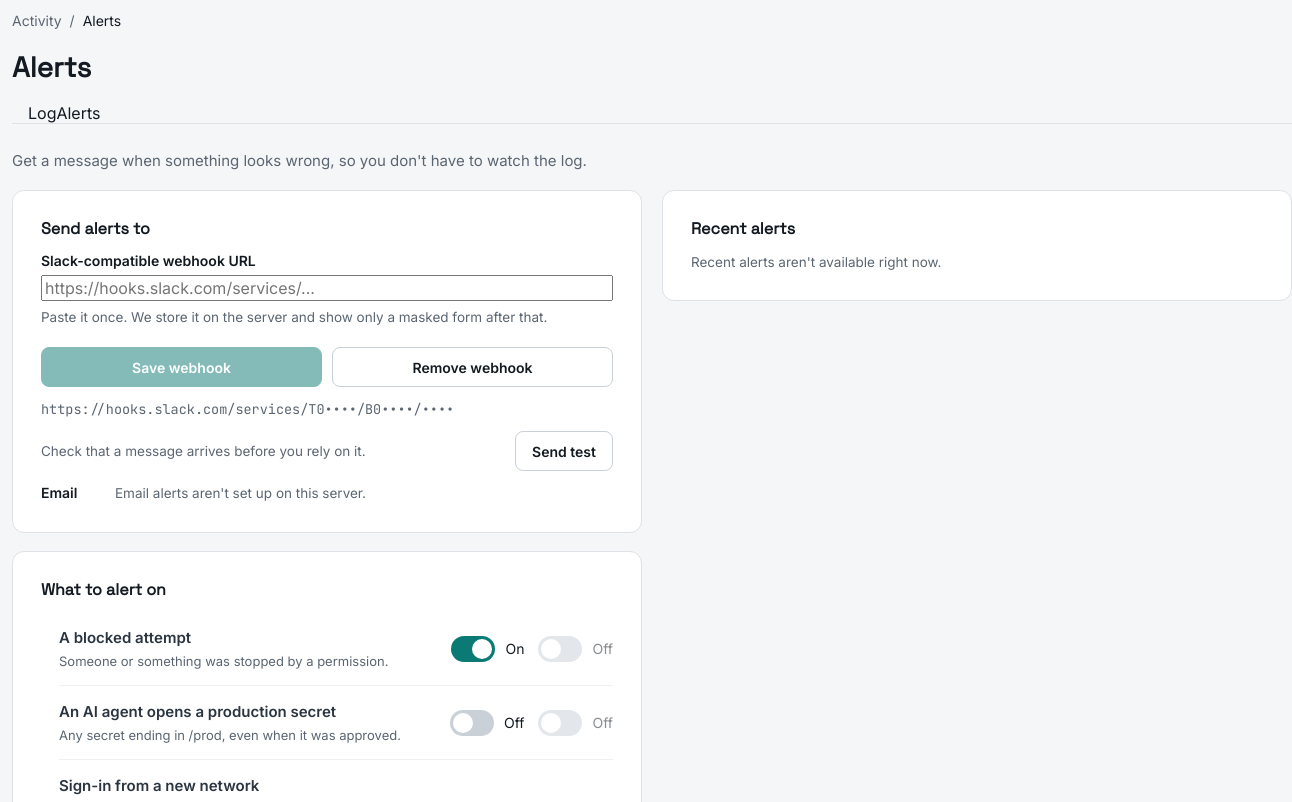
Test case: Alerts › refuses an http webhook before sending
Step 1. Type "http://hooks.example.com/x" into the field with id "webhook-url" → (327, 288), box [41, 275, 613, 301]
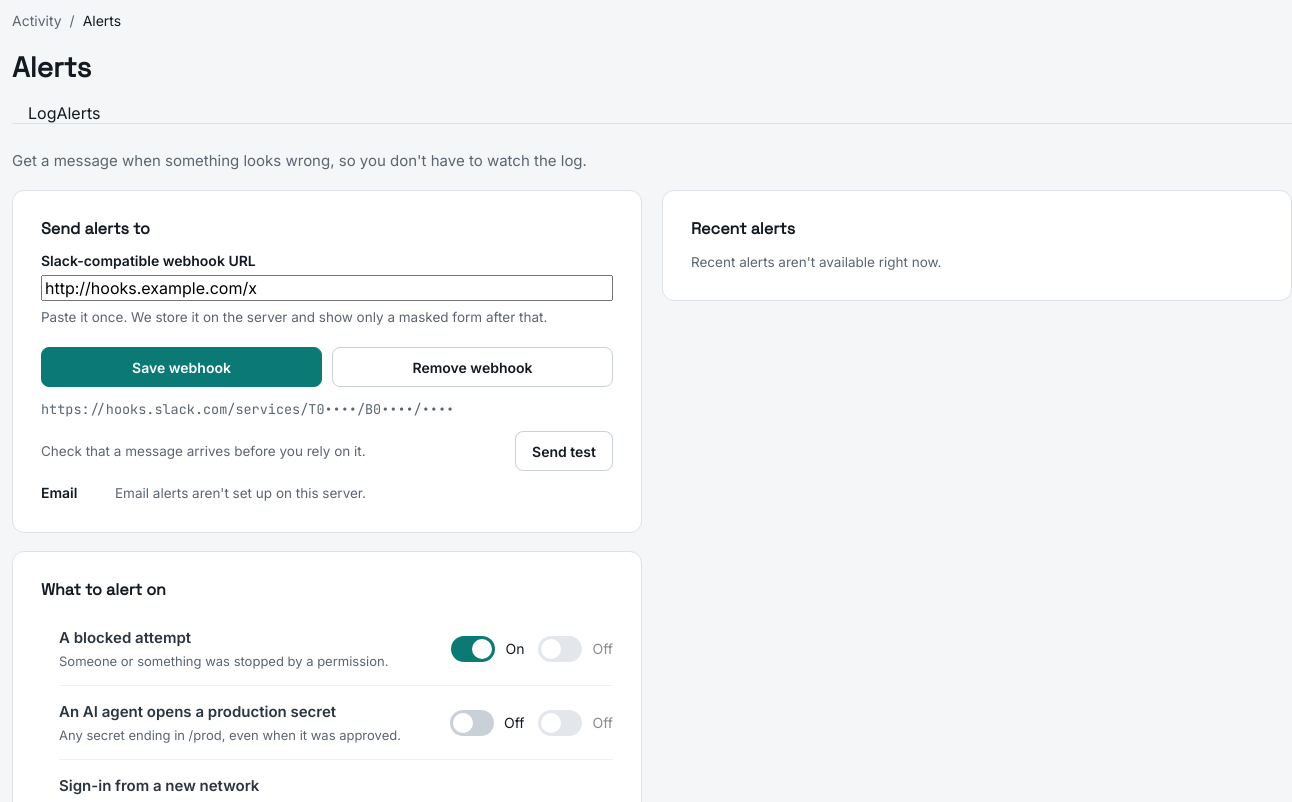
Step 2. Submit the form, box [41, 252, 613, 387]
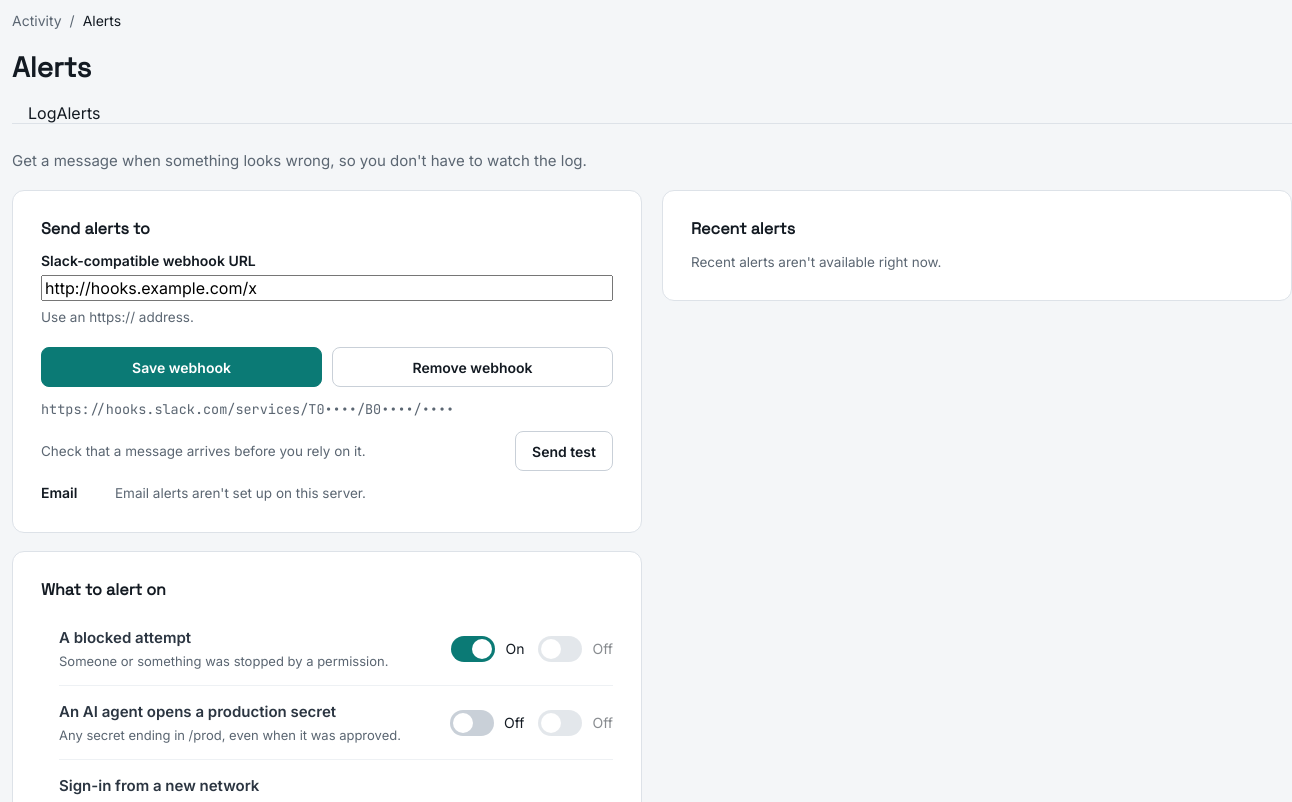
Result: the text "Use an https:// address." is shown at [41, 309, 194, 325]
